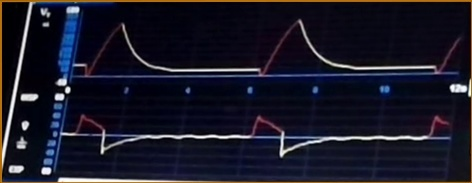Flow: (66, 107, 449, 174)
Leakage Volume: (77, 12, 460, 81)
